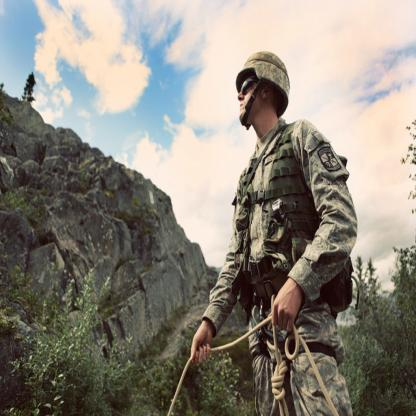Helmet: (242, 50, 290, 127)
